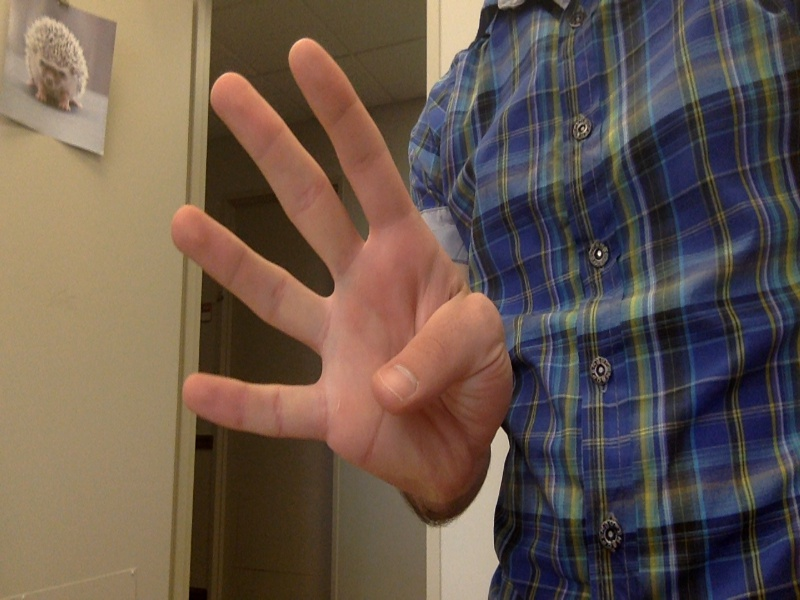4-hand: (169, 35, 513, 517)
